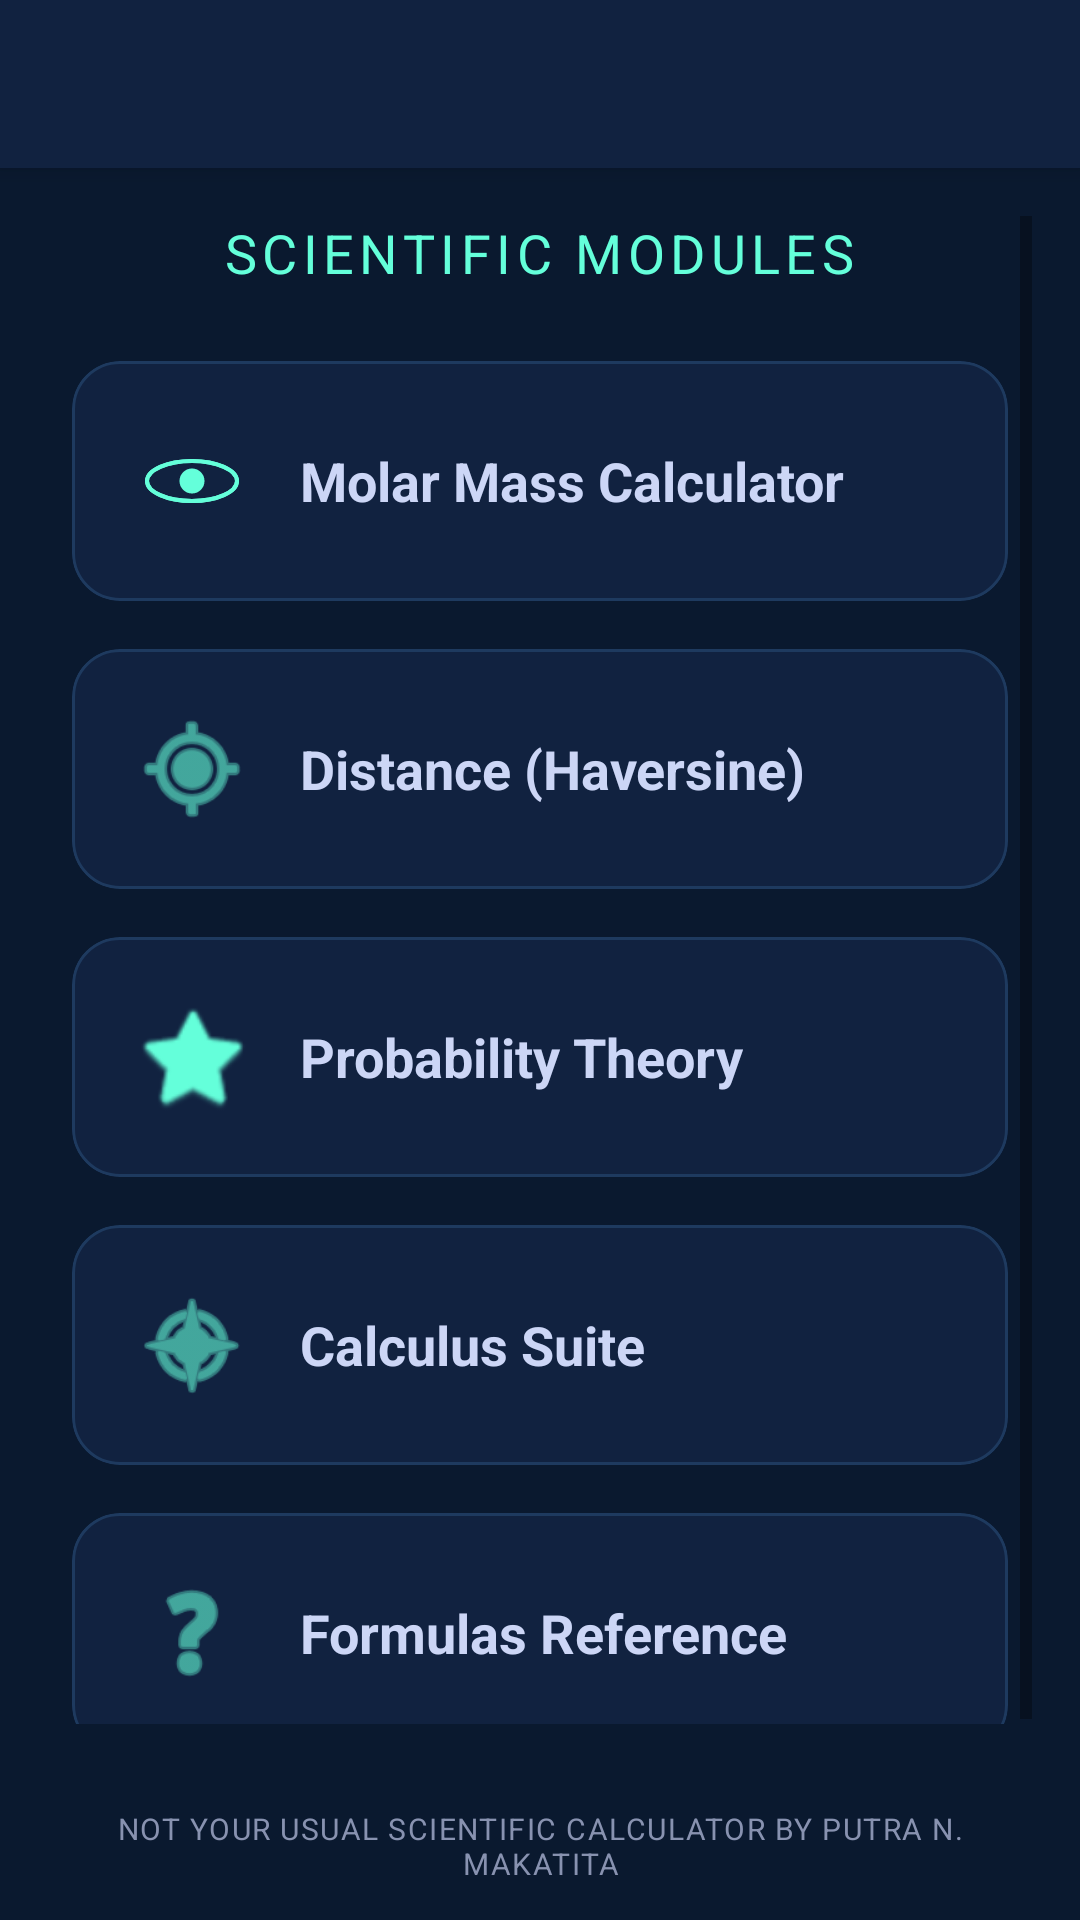

Named icons in this screenshot (1080x1920) and their centers, [x,y]:
compass: [191,1345]
help: [192,1633]
mylocation: [192,769]
star: [193,1058]
